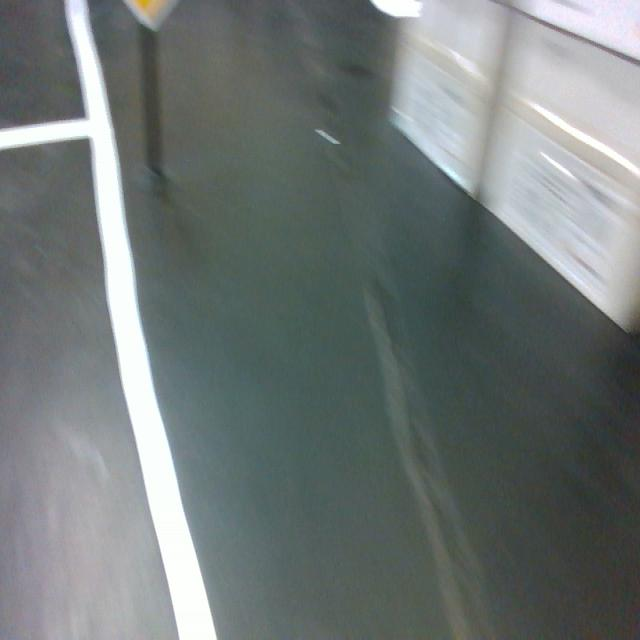priority-sign: (116, 0, 184, 34)
